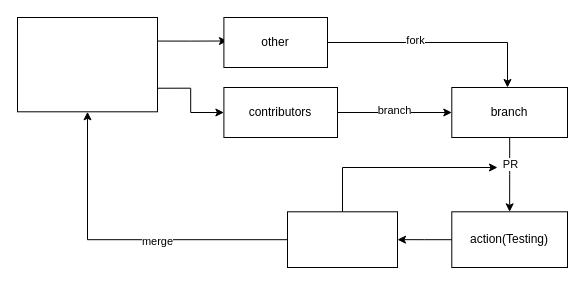
Image size: 585x285. Some labels were removed from this diagram. Each missing label, with the box of its shape:
discuss/review: (286, 211, 398, 268)
master/feature branch: (16, 16, 158, 112)
